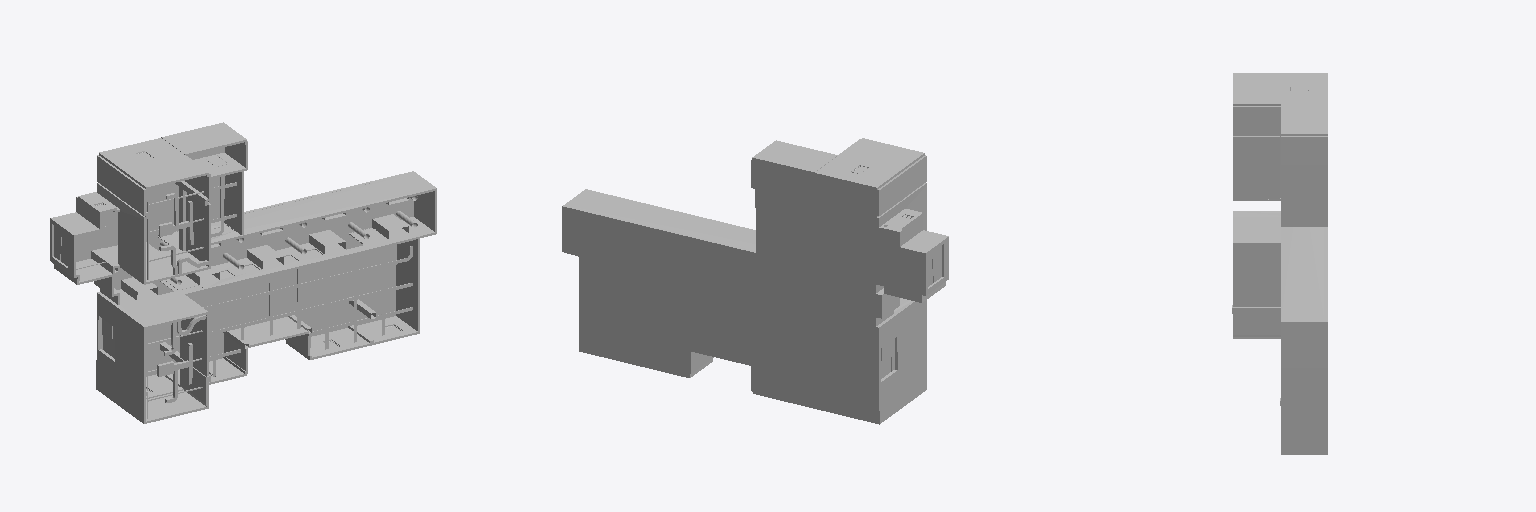
The model's file is iilabnoroof.obj.
The picture shows the model from 3 angles: view 1: azimuth 30°, elevation 25°; view 2: azimuth 150°, elevation 25°; view 3: azimuth 270°, elevation 25°; orthographic projection.
Parts seen in each view (by area): view 1: Wall1, Floor, Wall3, Wall4, CealingFrame, Wall2, Shafts, Ventilation_001, Ventilation, RoundedPosts; view 2: Floor, Wall1, Wall3, Wall2; view 3: Wall1, Wall3, Wall4, Floor.
Boxes of the visible parts, box(x1,y1,x2,y2) form: Wall1: box(98, 124, 436, 295); Floor: box(50, 122, 414, 389); Wall3: box(98, 289, 210, 423); Wall4: box(171, 239, 419, 384); CealingFrame: box(188, 246, 412, 376); Wall2: box(52, 192, 120, 304); Shafts: box(121, 197, 408, 299); Ventilation_001: box(157, 315, 206, 402); Ventilation: box(158, 193, 208, 274); RoundedPosts: box(160, 195, 417, 284); Floor: box(562, 156, 927, 424); Wall1: box(565, 138, 926, 250); Wall3: box(878, 298, 926, 422); Wall2: box(877, 209, 948, 324); Wall1: box(1233, 73, 1323, 367); Wall3: box(1232, 211, 1280, 338); Wall4: box(1280, 368, 1323, 454); Floor: box(1324, 73, 1327, 454).
Bounding box in the file's own units: 34.88 × 21.72 × 7.98.